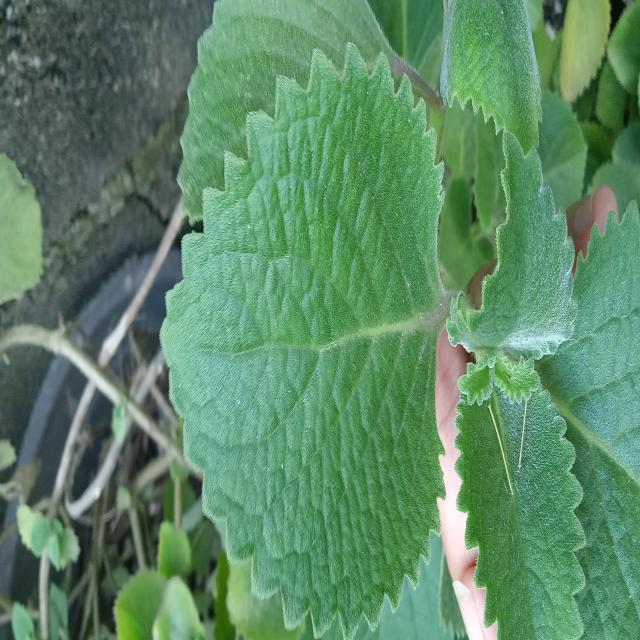Oregano: (156, 36, 472, 640)
